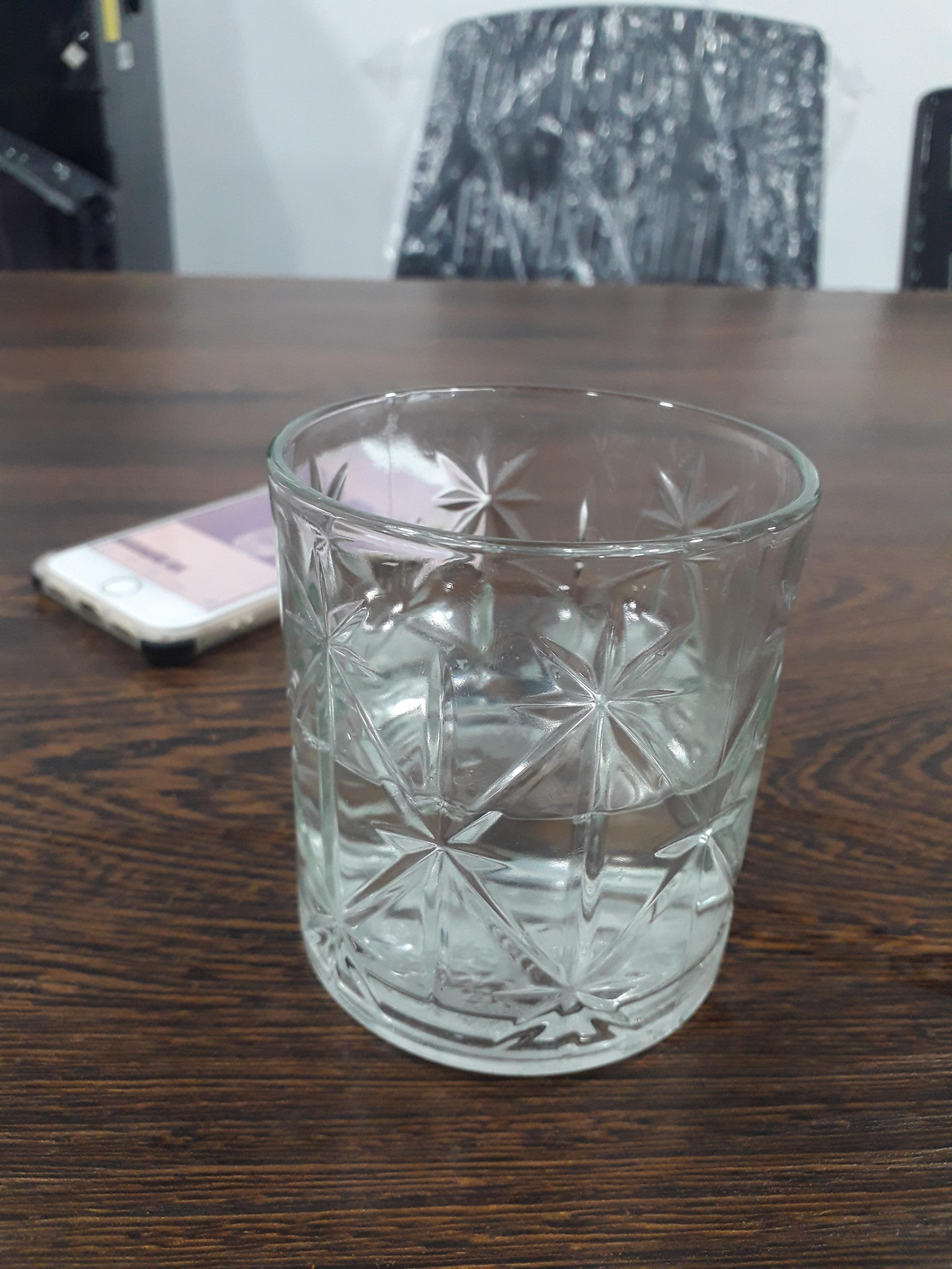glass-normal: (263, 374, 825, 1084)
